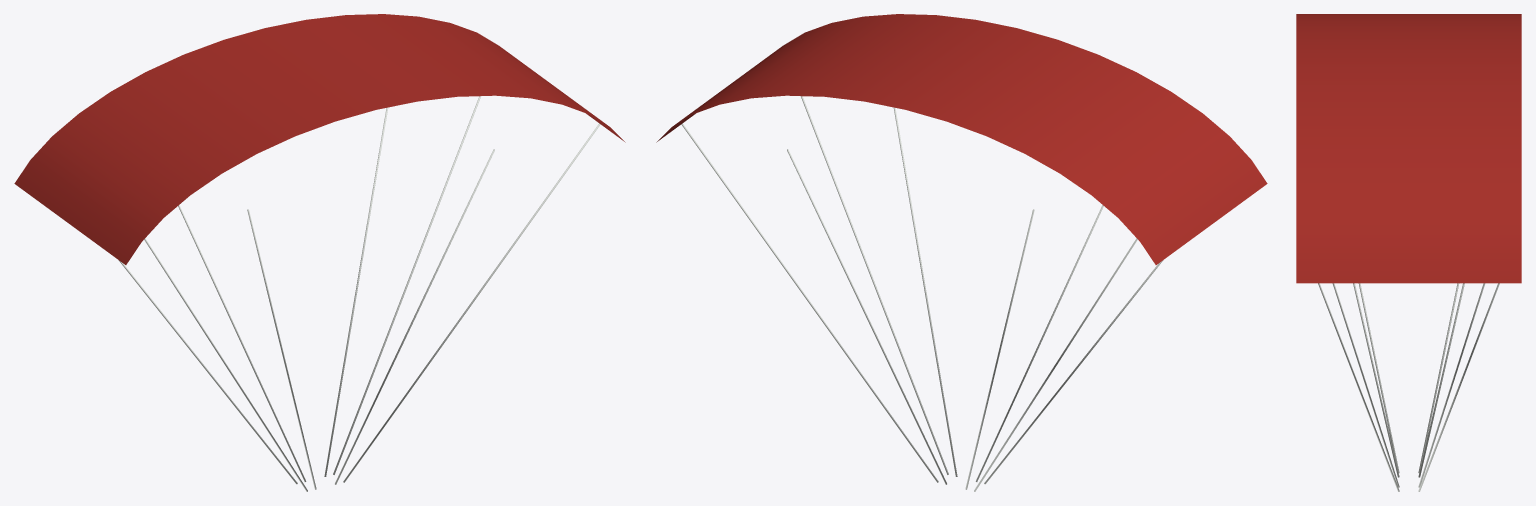
File: mc_parachute.glb
The picture shows the model from 3 angles, left to right: view 1: azimuth 30°, elevation 25°; view 2: azimuth 150°, elevation 25°; view 3: azimuth 270°, elevation 25°; orthographic projection.
Visible parts, largest first — view 1: mc_parachute__Geometry; view 2: mc_parachute__Geometry; view 3: mc_parachute__Geometry.
Boxes of the visible parts, left/top/right/bottom form: mc_parachute__Geometry: left=14, top=14, right=625, bottom=491; mc_parachute__Geometry: left=656, top=14, right=1267, bottom=491; mc_parachute__Geometry: left=1296, top=14, right=1521, bottom=491.
Bounding box in the file's own units: 5.69 × 4.51 × 2.2.
